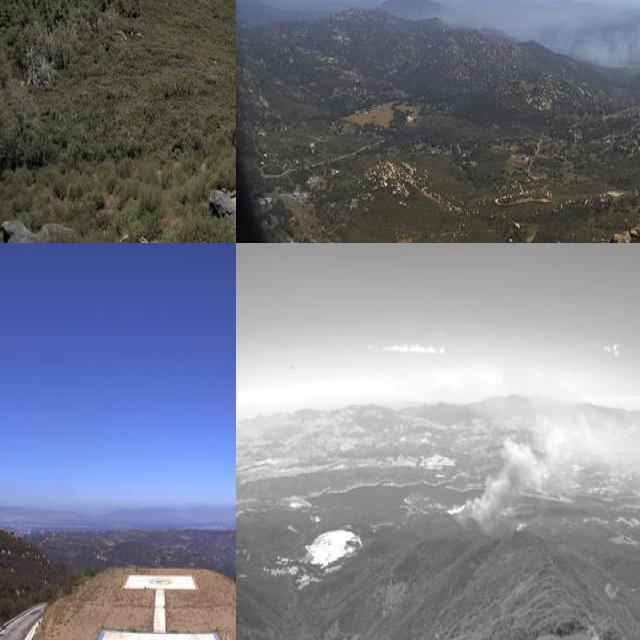smoke: (446, 411, 640, 534), (496, 0, 640, 80)
